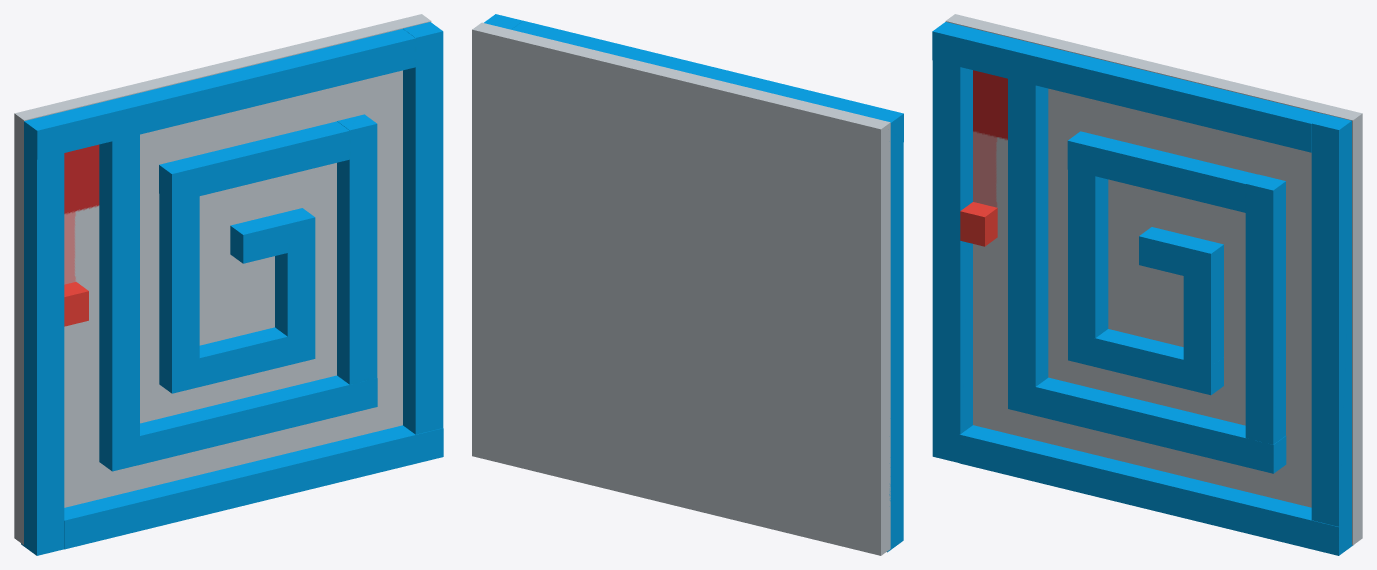
The model's file is resurrectself.fbx.
3 renders of one model, left to right at view 1: azimuth 30°, elevation 25°; view 2: azimuth 150°, elevation 25°; view 3: azimuth 330°, elevation 25°, orthographic.
Parts seen in each view (by area): view 1: mesh_id203, mesh_id30, mesh_id84, mesh_id102, mesh_id97, mesh_id107, mesh_id138, mesh_id129, mesh_id147, mesh_id154, mesh_id172, mesh_id163 (+2 smaller); view 2: mesh_id203, mesh_id84, mesh_id30; view 3: mesh_id203, mesh_id102, mesh_id30, mesh_id97, mesh_id84, mesh_id107, mesh_id138, mesh_id129, mesh_id147, mesh_id154, mesh_id172, mesh_id163 (+2 smaller).
Part boxes in pixels (left/top/right/bottom): mesh_id203: left=14, top=14, right=431, bottom=544; mesh_id30: left=24, top=29, right=416, bottom=159; mesh_id84: left=21, top=150, right=64, bottom=555; mesh_id102: left=403, top=22, right=443, bottom=434; mesh_id97: left=64, top=425, right=443, bottom=549; mesh_id107: left=99, top=134, right=139, bottom=471; mesh_id138: left=337, top=114, right=377, bottom=384; mesh_id129: left=140, top=375, right=377, bottom=464; mesh_id147: left=159, top=121, right=350, bottom=202; mesh_id154: left=159, top=194, right=199, bottom=393; mesh_id172: left=275, top=208, right=315, bottom=340; mesh_id163: left=198, top=327, right=315, bottom=387; mesh_id203: left=472, top=22, right=890, bottom=555; mesh_id84: left=887, top=142, right=903, bottom=552; mesh_id30: left=511, top=20, right=903, bottom=151; mesh_id203: left=945, top=14, right=1362, bottom=545; mesh_id102: left=1311, top=114, right=1351, bottom=526; mesh_id30: left=932, top=22, right=1323, bottom=152; mesh_id97: left=959, top=425, right=1353, bottom=555; mesh_id84: left=932, top=60, right=972, bottom=462; mesh_id107: left=1008, top=78, right=1048, bottom=415; mesh_id138: left=1245, top=174, right=1285, bottom=444; mesh_id129: left=1035, top=377, right=1286, bottom=473; mesh_id147: left=1067, top=131, right=1257, bottom=212; mesh_id154: left=1068, top=169, right=1108, bottom=366; mesh_id172: left=1183, top=238, right=1223, bottom=376; mesh_id163: left=1093, top=329, right=1223, bottom=395.
Bounding box in the file's own units: 1243 × 1243 × 120.
Materials: 14 (14 with a texture image).
